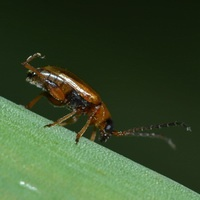insect: (22, 53, 190, 148)
